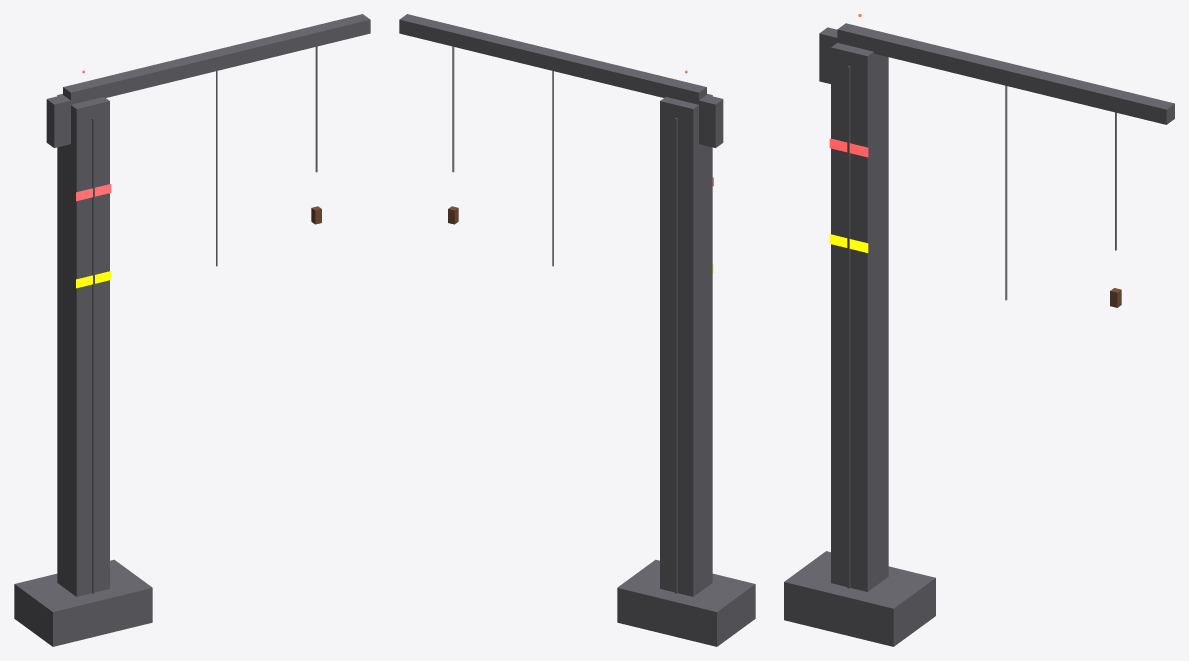
The model's file is HARBOR_PROP_Crane_XL.glb.
The picture shows the model from 3 angles, left to right: view 1: azimuth 30°, elevation 25°; view 2: azimuth 150°, elevation 25°; view 3: azimuth 330°, elevation 25°; orthographic projection. The views are drawn at different scales.
Parts seen in each view (by area): view 1: HARBOR_PROP_Crane_XL; view 2: HARBOR_PROP_Crane_XL; view 3: HARBOR_PROP_Crane_XL.
Part boxes in pixels (x1,y1,x2,y2): HARBOR_PROP_Crane_XL: (14, 14, 370, 646); HARBOR_PROP_Crane_XL: (399, 14, 755, 646); HARBOR_PROP_Crane_XL: (784, 14, 1174, 646).
Bounding box in the file's own units: 20 × 31.54 × 4.
